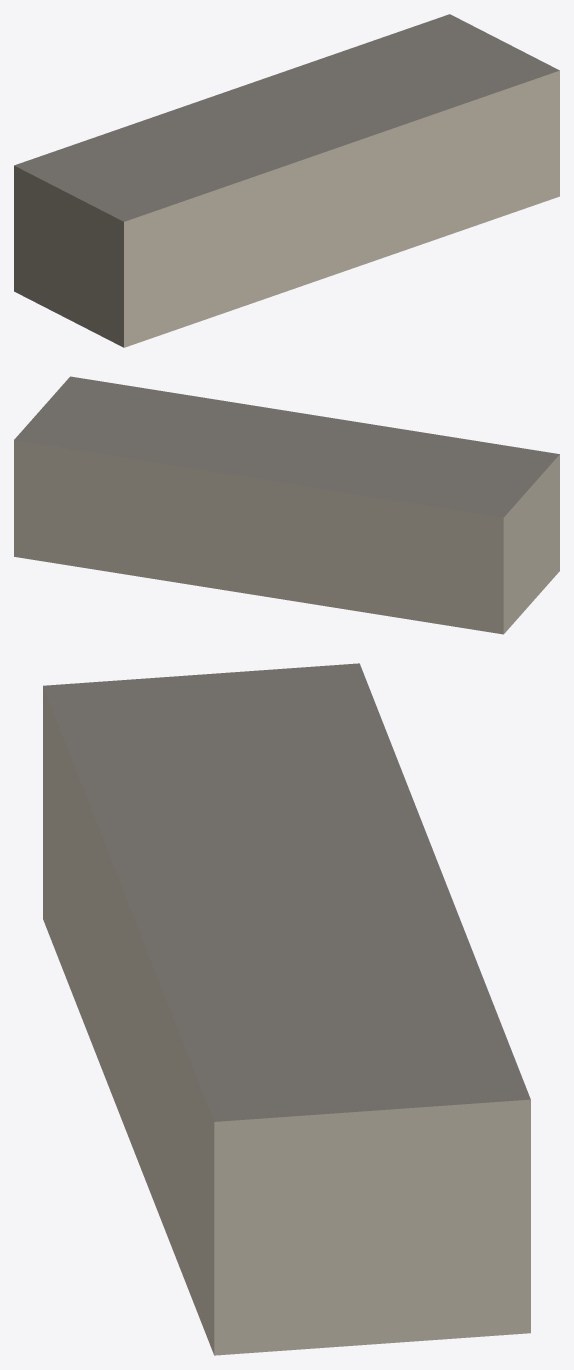
3 views of the same model, one above another, from view 1: azimuth 30°, elevation 25°; view 2: azimuth 150°, elevation 25°; view 3: azimuth 270°, elevation 25° (orthographic). The views are drawn at different scales.
Parts seen in each view (by area): view 1: HP-w859488820; view 2: HP-w859488820; view 3: HP-w859488820.
Part boxes in pixels (left/top/right/bottom): HP-w859488820: left=14, top=14, right=559, bottom=347; HP-w859488820: left=14, top=376, right=559, bottom=634; HP-w859488820: left=43, top=663, right=530, bottom=1355.
Bounding box in the file's own units: 75.77 × 18 × 34.06.
